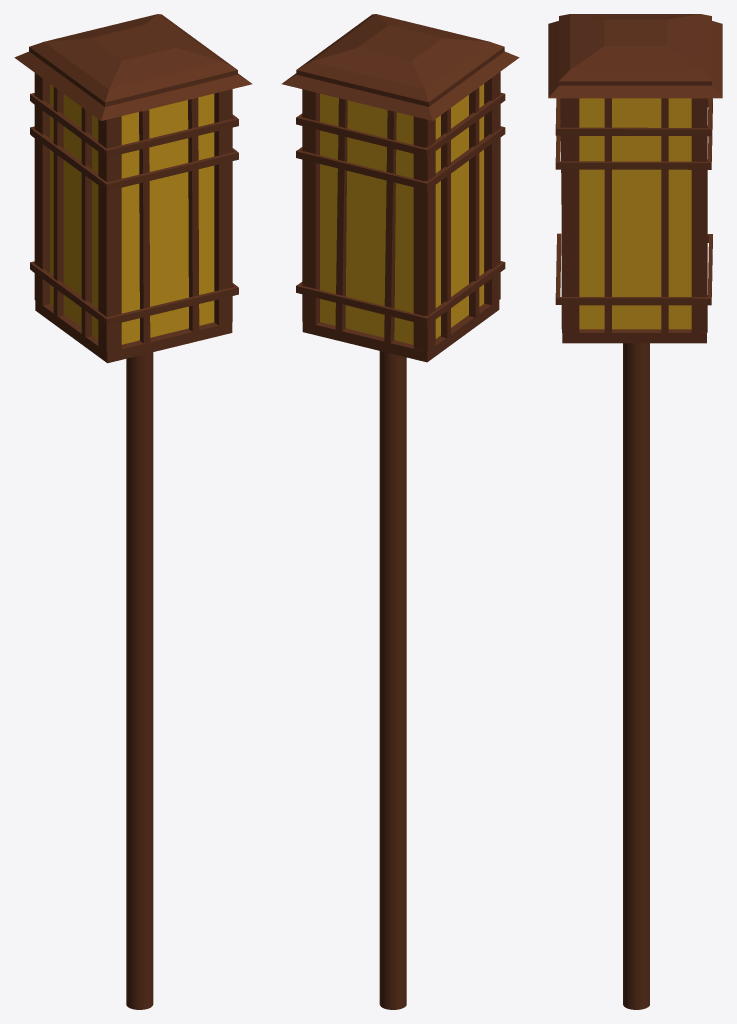
File: AsianLamp.fbx
The picture shows the model from 3 angles, left to right: view 1: azimuth 30°, elevation 25°; view 2: azimuth 150°, elevation 25°; view 3: azimuth 270°, elevation 25°; orthographic projection.
Parts seen in each view (by area): view 1: Cylinder; view 2: Cylinder; view 3: Cylinder.
Boxes of the visible parts, bbox=[...] form: Cylinder: bbox=[14, 14, 252, 1009]; Cylinder: bbox=[282, 14, 519, 1009]; Cylinder: bbox=[548, 14, 722, 1009].
Size of the model in its own units: 136 by 826 by 135.
